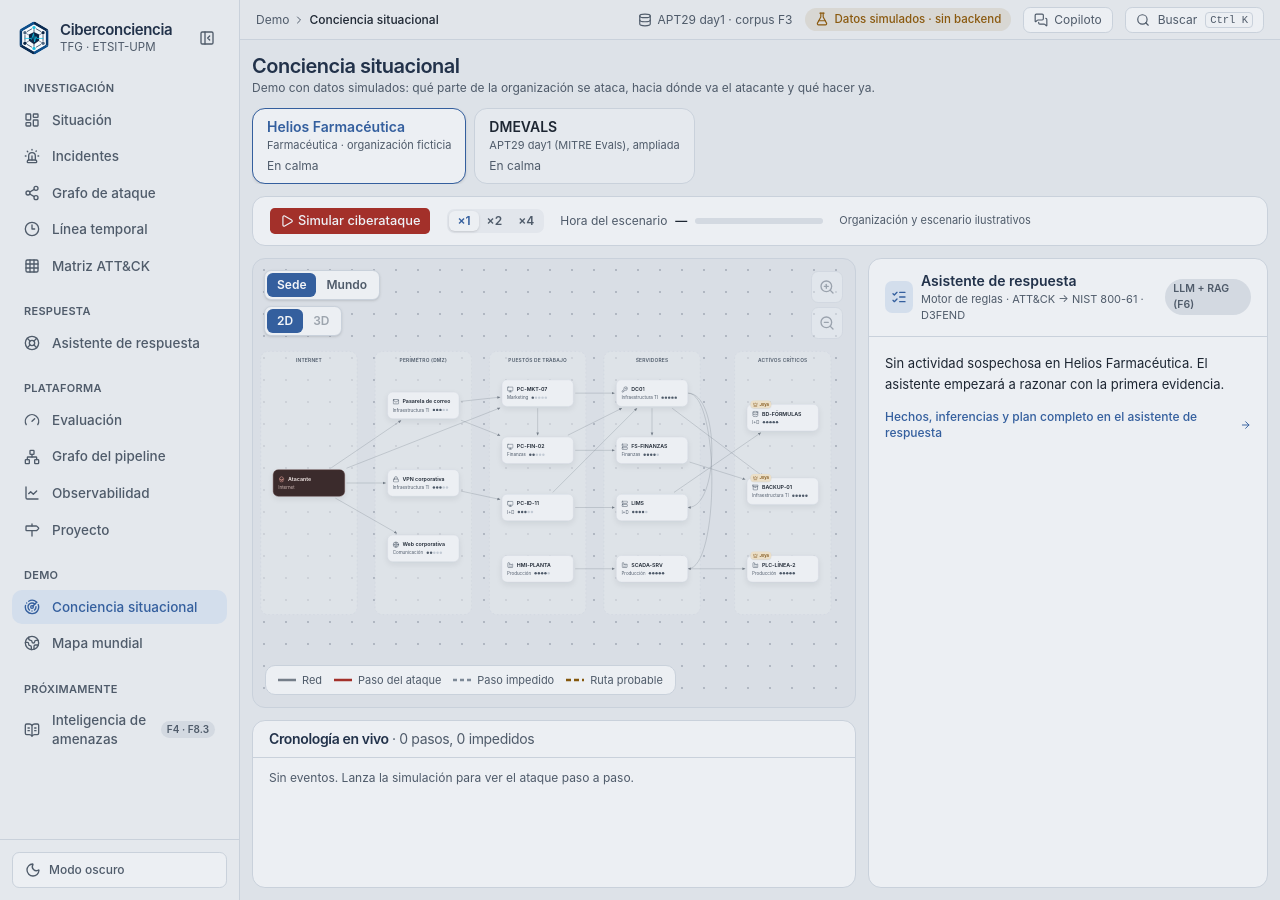
Scenario: Conciencia situacional › el ataque avanza, el asistente recomienda, y aislar el equipo comprometido lo contiene
The image size is (1280, 900).
Click the button "Simular ciberataque" at (350, 220), box [269,206,431,234]
Wait 30000 ms
(page scrolled)
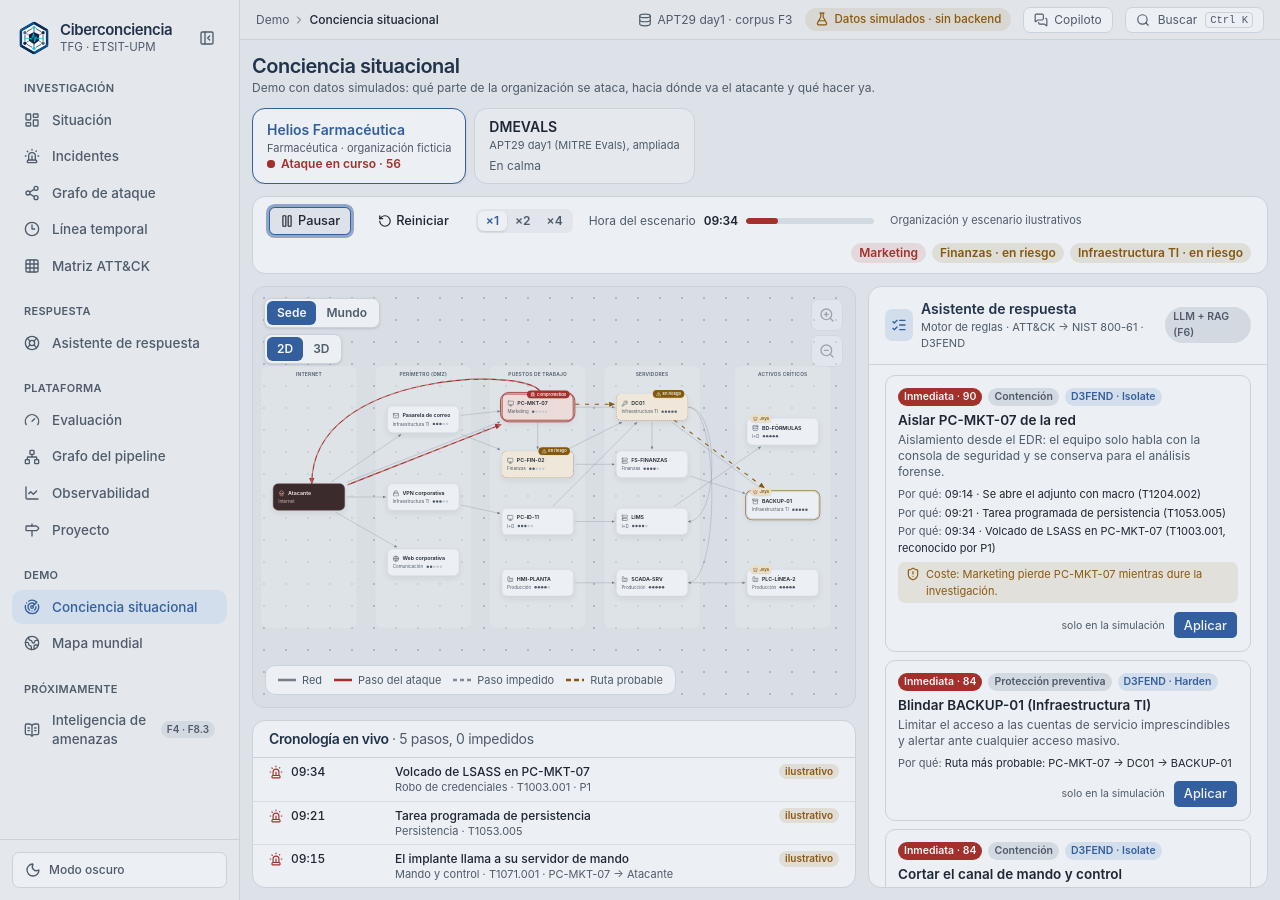
Check: the element named "Áreas afectadas" shows "Marketing", box [859,244,918,260]
Check: the text "Inmediata" is shown, box [904,390,954,403]
Check: the text "Por qué:" is shown, box [898,487,945,501]
Click the button "Aplicar" below "90" at (1205, 625), box [1173,611,1238,639]
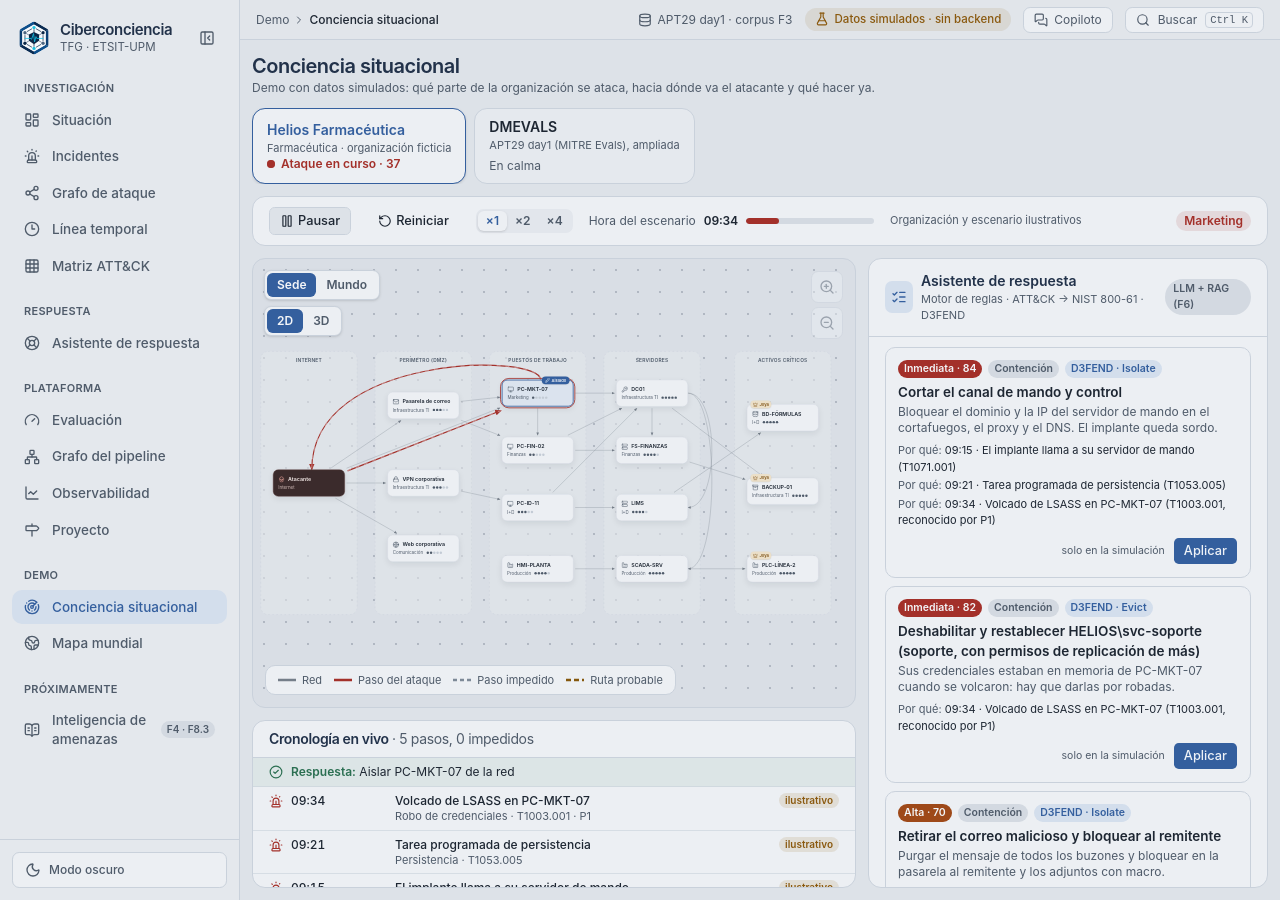
Check: the button "Aislado PC-MKT-07 Marketing" has attribute data-estado="aislado", box [502,379,574,406]
Click the radio button labelled "×4" at (555, 220), box [539,210,571,230]
Wait 30000 ms
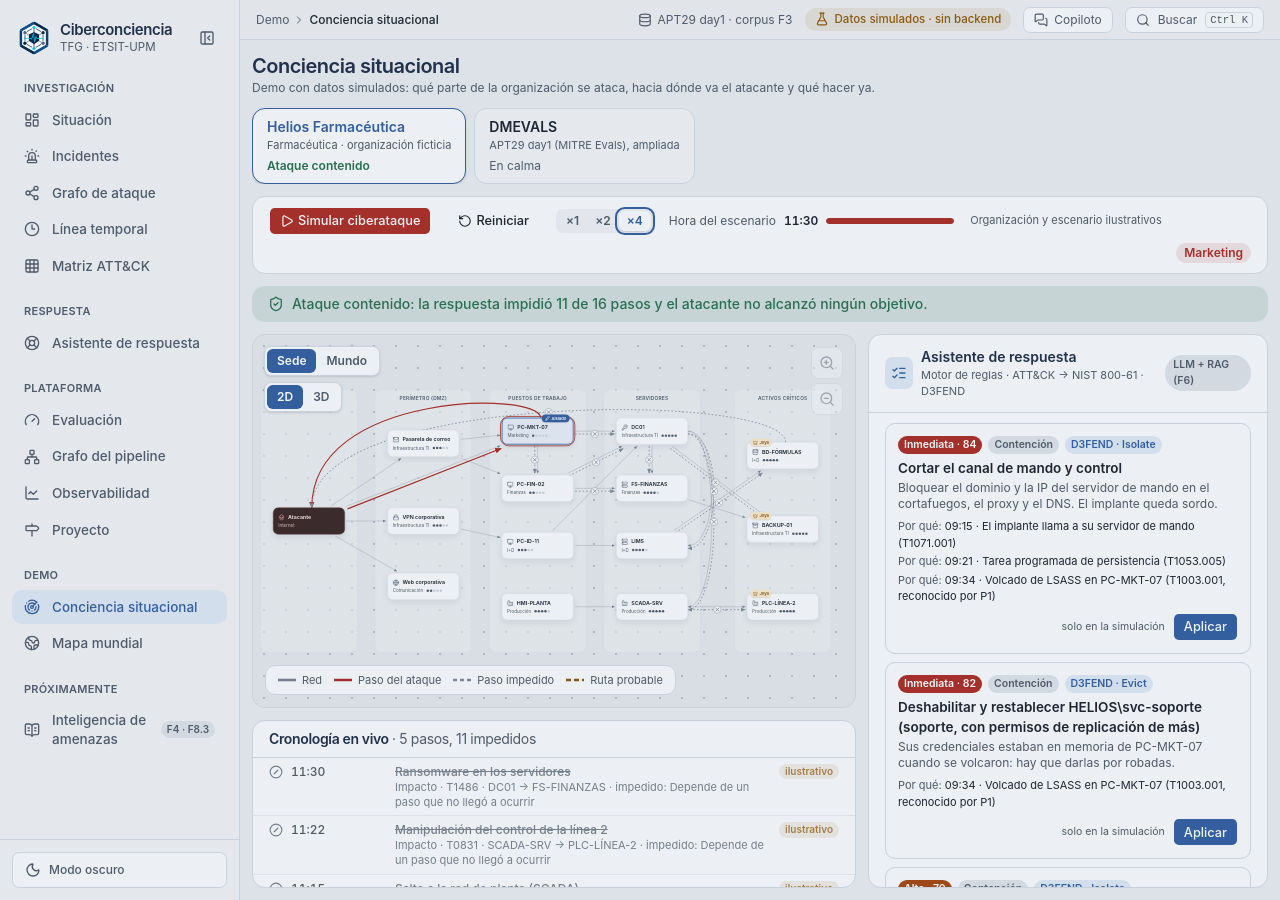
Check: the text "Ataque contenido: la respuesta impidió" is shown, box [292,294,928,312]
